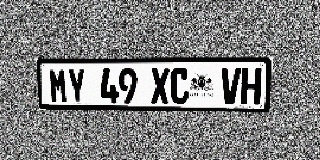4: (99, 68, 119, 103)
9: (118, 68, 138, 103)
C: (170, 68, 189, 104)
H: (240, 68, 262, 105)
M: (48, 68, 68, 103)
V: (220, 68, 241, 104)
X: (151, 68, 169, 104)
Y: (67, 68, 86, 103)
